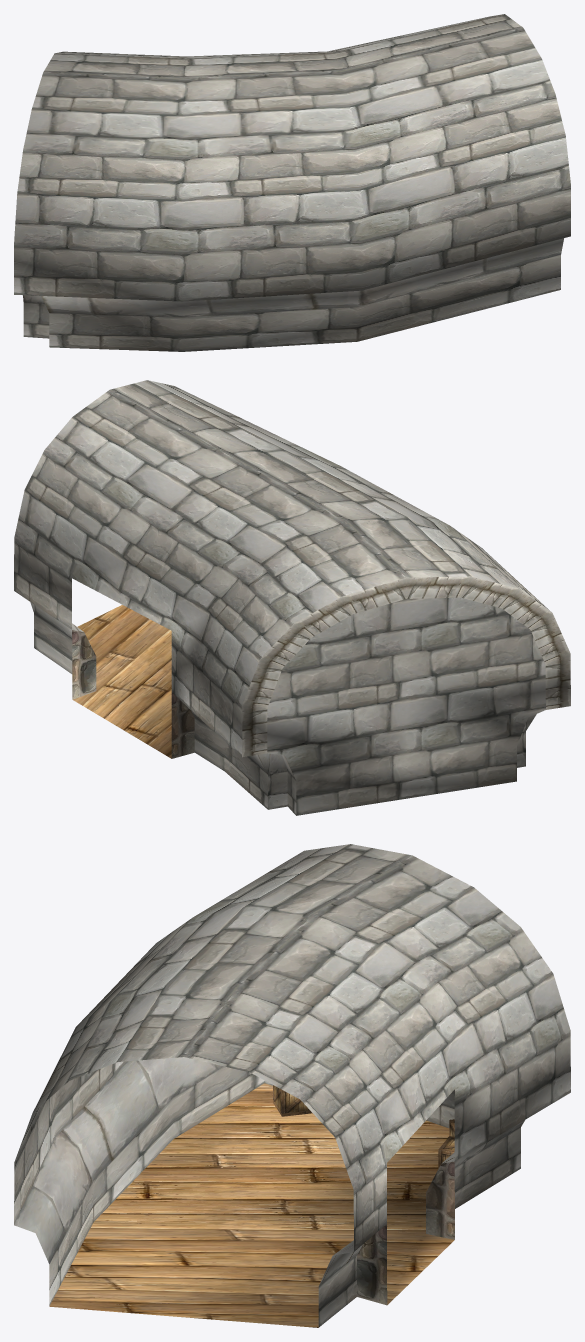
The model's file is stormwind_196.fbx.
3 views of the same model, one above another, from view 1: azimuth 30°, elevation 25°; view 2: azimuth 150°, elevation 25°; view 3: azimuth 270°, elevation 25° (orthographic). The views are drawn at different scales.
Parts seen in each view (by area): view 1: stormwind_196_39, stormwind_196_45; view 2: stormwind_196_39, stormwind_196_40, stormwind_196_181, stormwind_196_38, stormwind_196_45; view 3: stormwind_196_39, stormwind_196_181, stormwind_196_45, stormwind_196_38, stormwind_196_59.
Part boxes in pixels (x1,y1,x2,y2): stormwind_196_39: [14, 14, 570, 351]; stormwind_196_45: [23, 238, 563, 317]; stormwind_196_39: [14, 380, 551, 815]; stormwind_196_40: [242, 576, 570, 757]; stormwind_196_181: [73, 605, 171, 758]; stormwind_196_38: [72, 630, 194, 758]; stormwind_196_45: [30, 602, 536, 779]; stormwind_196_39: [14, 844, 570, 1327]; stormwind_196_181: [49, 1083, 454, 1327]; stormwind_196_45: [14, 1057, 524, 1285]; stormwind_196_38: [357, 1161, 454, 1305]; stormwind_196_59: [273, 1085, 454, 1168].
Size of the model in its own units: 28.77 by 12.96 by 22.92.
